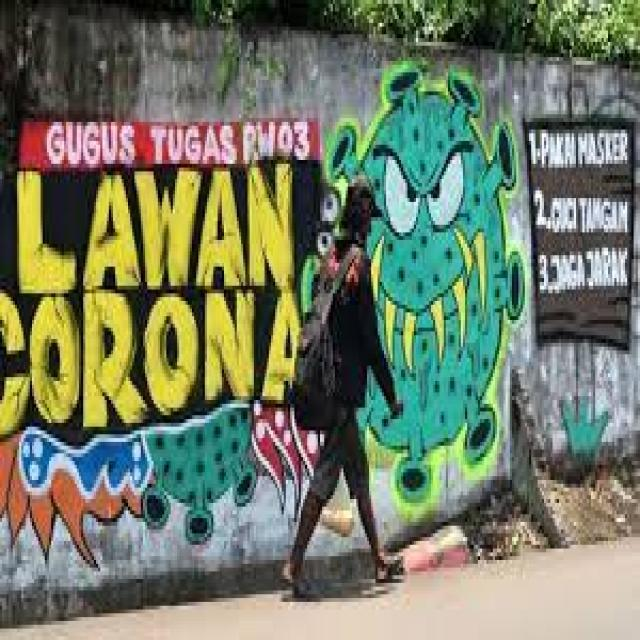-: (0, 114, 324, 563), (302, 67, 526, 506), (528, 113, 634, 460)
